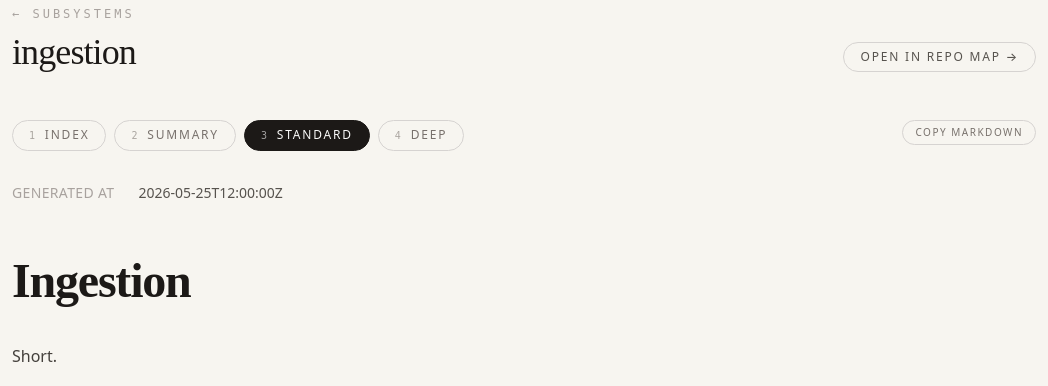
SubsystemDetail › refetches at the new LoD when the switcher is clicked
Click the radio button with test id "lod-deep". click: (421, 136)
box: [378, 120, 464, 151]
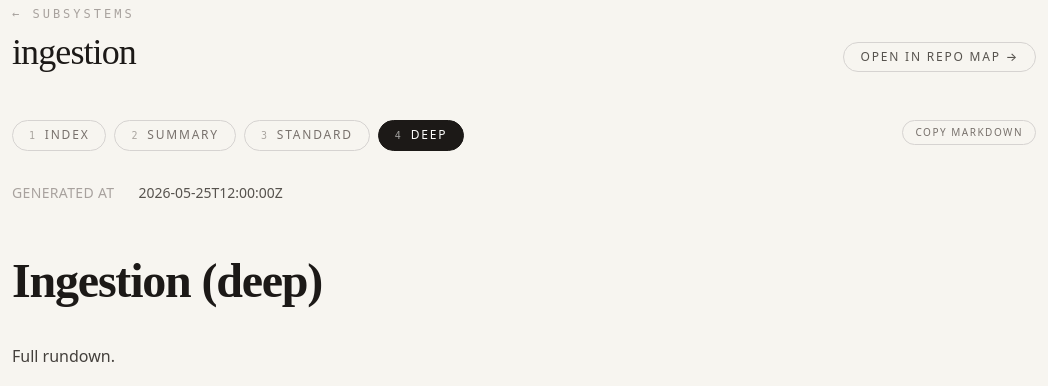
Expected: the heading "Ingestion (deep)" is shown, [12, 254, 322, 307]
